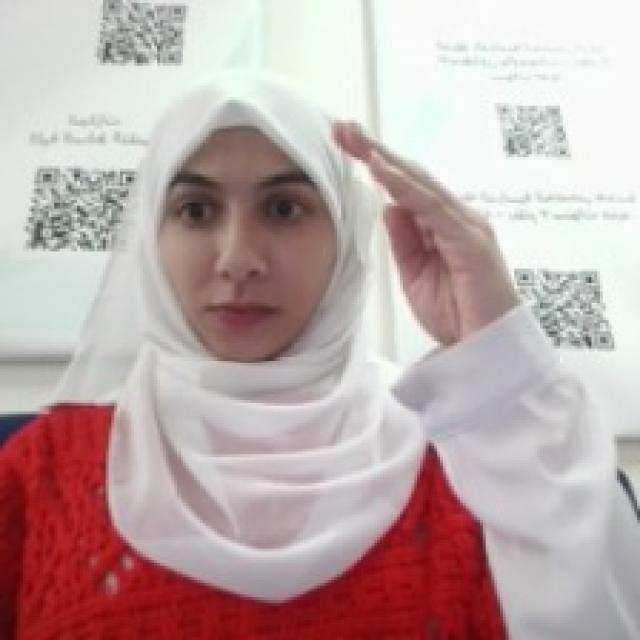Thanks: (326, 112, 511, 348)
